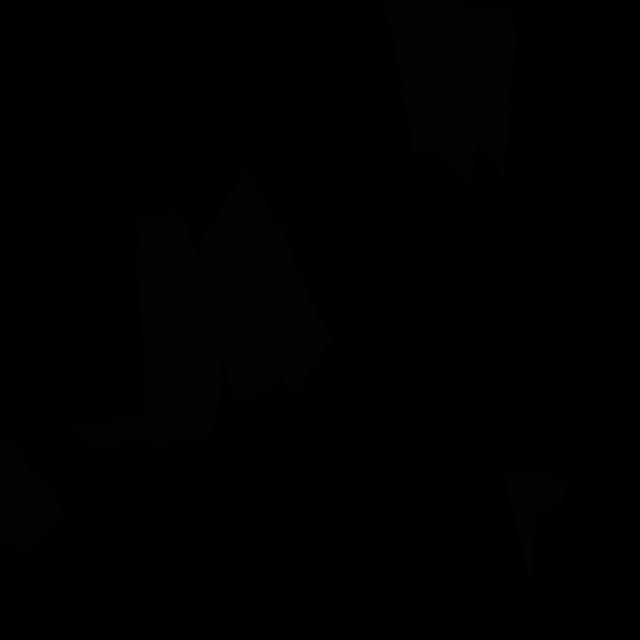cardboard: (72, 212, 223, 450), (200, 170, 332, 404), (383, 0, 516, 180), (502, 471, 565, 587), (0, 439, 63, 549)
